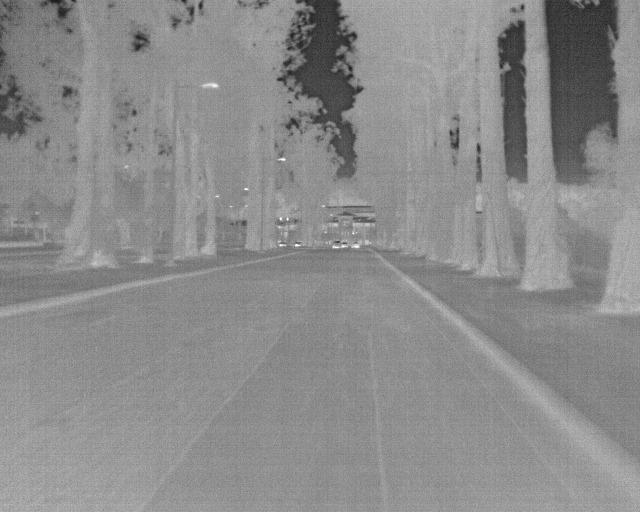car: (325, 234, 341, 248)
